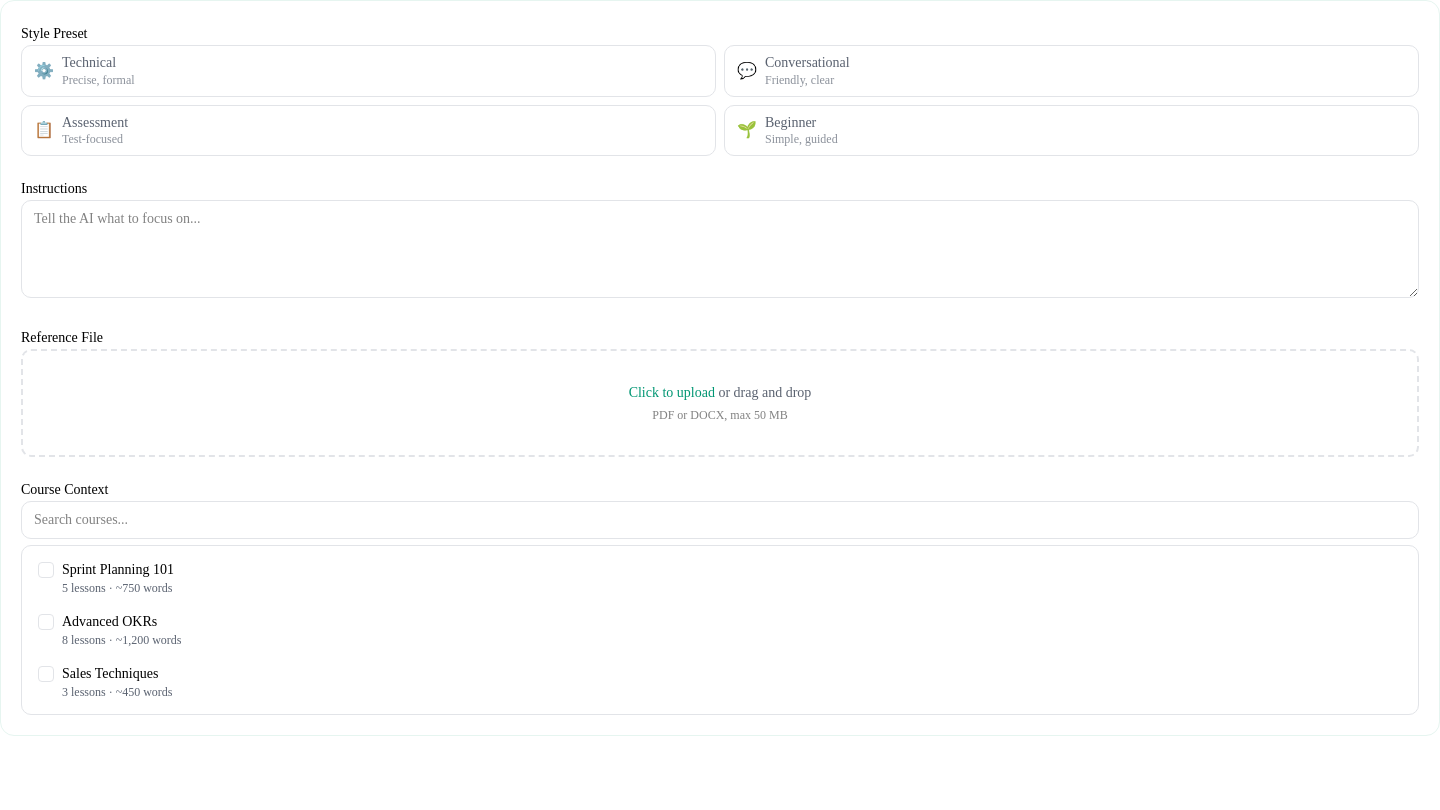
Test: AiContextPanel › Course Picker › filters courses by search (debounced)
This screenshot has width=1440, height=810.
Expected: the text "Sprint Planning 101" is shown, [62,562,174,577]
Type "Sprint" into the field with test id "course-search" at (720, 520), box [21,501,1419,539]
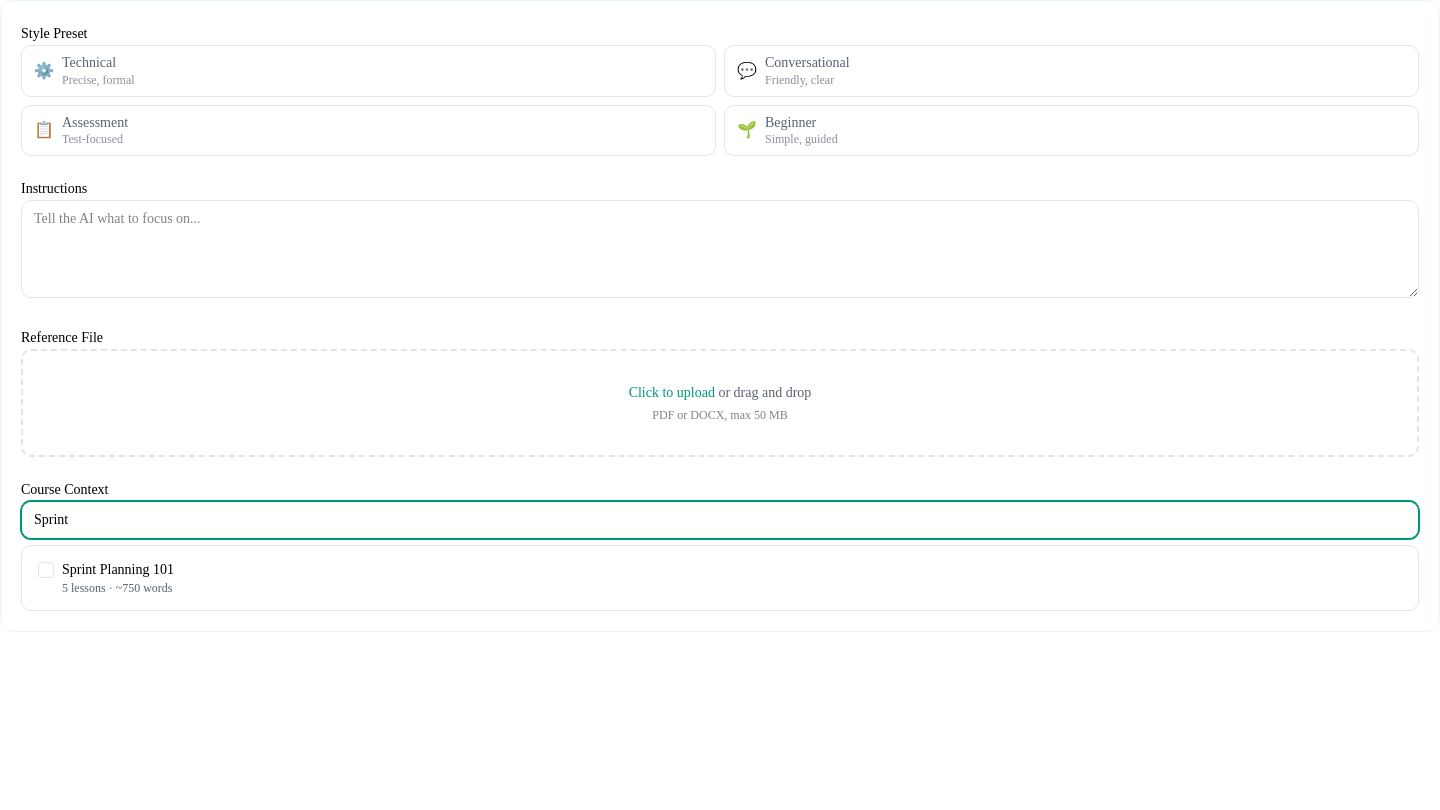
Expected: the text "Sprint Planning 101" is shown, [62,562,174,577]
Expected: the text "Advanced OKRs" is gone
Expected: the text "Sales Techniques" is gone
